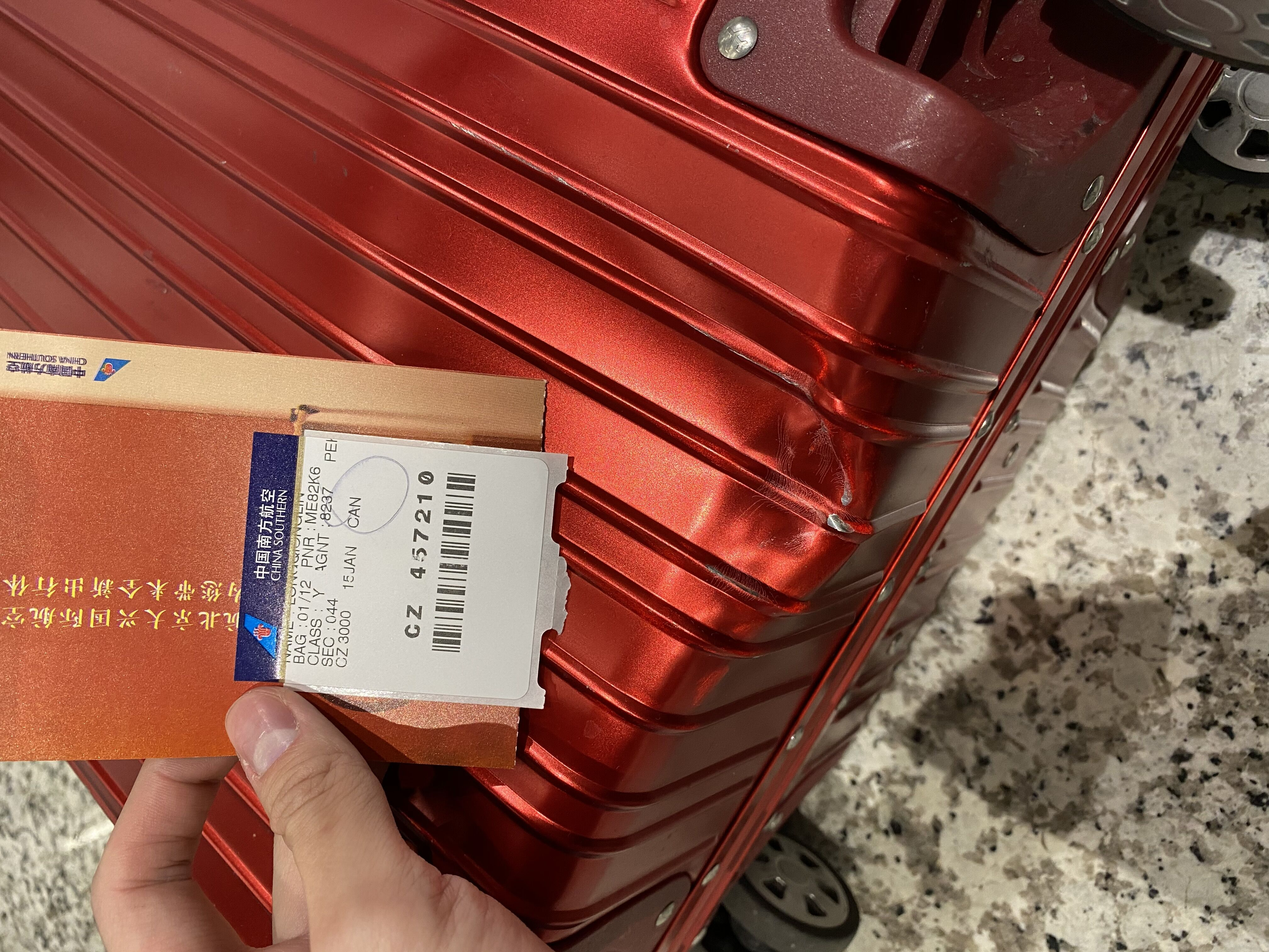rupture: (682, 379, 887, 615)
